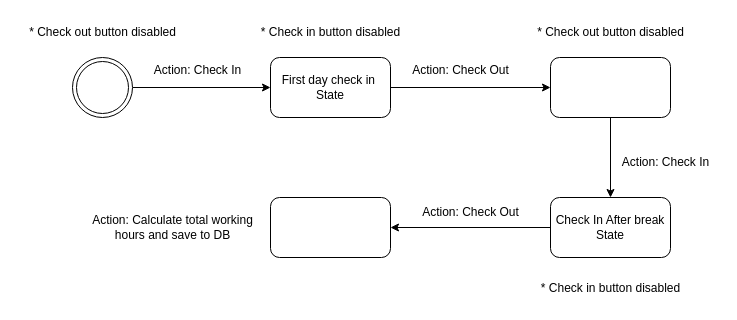
The diagram is 737 pixels wide and 320 high, and some of its shapes have lost their labels. Here are the shapes that lost their labels. From the top down, the box of each, then its label:
(550, 56, 670, 118): Check Out for break State
(270, 196, 390, 258): Check Out for work State
